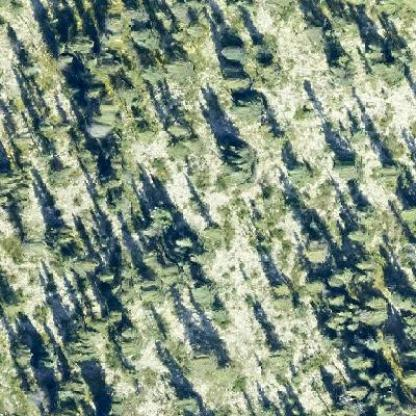tree-top: (219, 138, 259, 183), (74, 105, 124, 140), (320, 51, 362, 88), (228, 90, 269, 120), (185, 276, 222, 308), (325, 148, 362, 178), (161, 52, 195, 84), (350, 259, 386, 288), (220, 64, 254, 94), (264, 341, 300, 369), (300, 234, 332, 264), (215, 38, 255, 62), (344, 348, 379, 372)
